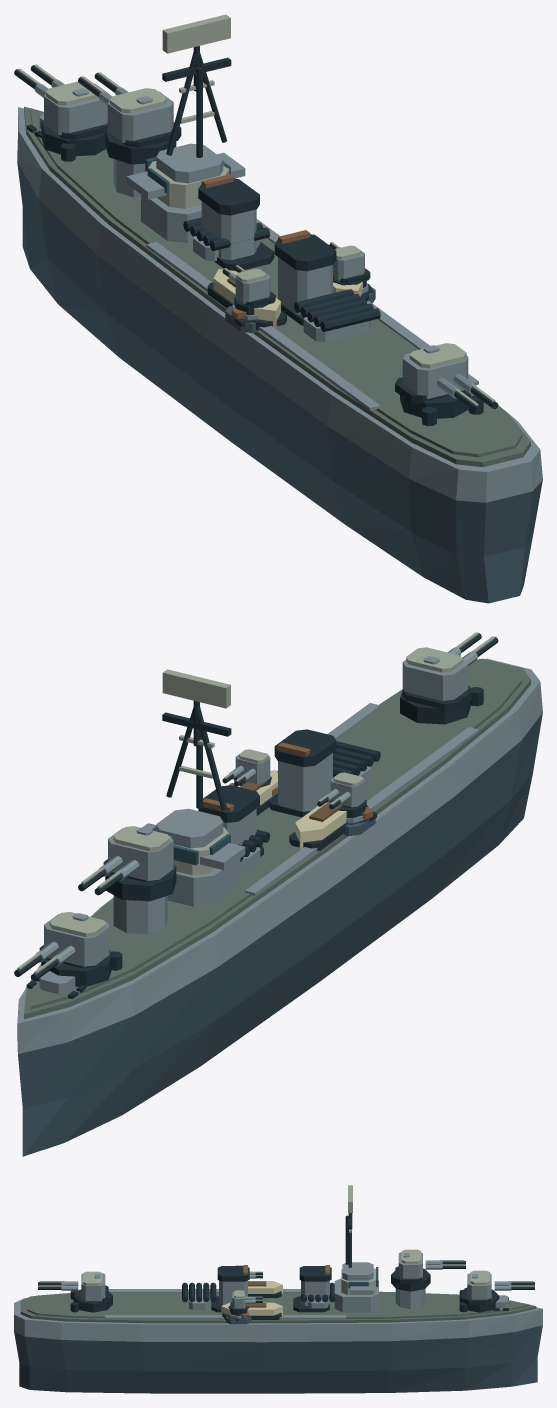
The model's file is historic-allen-sumner.glb.
The picture shows the model from 3 angles, top to bottom: view 1: azimuth 30°, elevation 25°; view 2: azimuth 150°, elevation 25°; view 3: azimuth 270°, elevation 25°; orthographic projection. The views are drawn at different scales.
Parts seen in each view (by area): view 1: historic-allen-sumner-historic-allen-sumner-geometry, historic-allen-sumner-part_bridge.132-geometry, historic-allen-sumner-turret_main_1.094-geometry, historic-allen-sumner-turret_main_2.080-geometry, historic-allen-sumner-turret_main_0.101-geometry, historic-allen-sumner-historic_funnel_0.125-geometry, historic-allen-sumner-historic_funnel_1.070-geometry, historic-allen-sumner-torpedo_bank_0.041-geometry, historic-allen-sumner-turret_aa_aa-port.134-geometry, historic-allen-sumner-torpedo_bank_1.038-geometry, historic-allen-sumner-turret_aa_aa-starboard.130-geometry; view 2: historic-allen-sumner-historic-allen-sumner-geometry, historic-allen-sumner-part_bridge.132-geometry, historic-allen-sumner-turret_main_2.080-geometry, historic-allen-sumner-turret_main_1.094-geometry, historic-allen-sumner-turret_main_0.101-geometry, historic-allen-sumner-historic_funnel_1.070-geometry, historic-allen-sumner-historic_funnel_0.125-geometry, historic-allen-sumner-turret_aa_aa-port.134-geometry, historic-allen-sumner-torpedo_bank_0.041-geometry, historic-allen-sumner-turret_aa_aa-starboard.130-geometry, historic-allen-sumner-torpedo_bank_1.038-geometry; view 3: historic-allen-sumner-historic-allen-sumner-geometry, historic-allen-sumner-part_bridge.132-geometry, historic-allen-sumner-turret_main_1.094-geometry, historic-allen-sumner-turret_main_2.080-geometry, historic-allen-sumner-turret_main_0.101-geometry, historic-allen-sumner-historic_funnel_0.125-geometry, historic-allen-sumner-historic_funnel_1.070-geometry, historic-allen-sumner-torpedo_bank_0.041-geometry, historic-allen-sumner-turret_aa_aa-starboard.130-geometry, historic-allen-sumner-torpedo_bank_1.038-geometry.
Part boxes in pixels (x1=…): historic-allen-sumner-historic-allen-sumner-geometry: x1=17, y1=106, x2=542, y2=603; historic-allen-sumner-part_bridge.132-geometry: x1=126, y1=14, x2=245, y2=242; historic-allen-sumner-turret_main_1.094-geometry: x1=78, y1=72, x2=181, y2=164; historic-allen-sumner-turret_main_2.080-geometry: x1=395, y1=343, x2=498, y2=418; historic-allen-sumner-turret_main_0.101-geometry: x1=14, y1=64, x2=108, y2=156; historic-allen-sumner-historic_funnel_0.125-geometry: x1=198, y1=174, x2=274, y2=270; historic-allen-sumner-historic_funnel_1.070-geometry: x1=274, y1=230, x2=336, y2=325; historic-allen-sumner-torpedo_bank_0.041-geometry: x1=294, y1=289, x2=380, y2=342; historic-allen-sumner-turret_aa_aa-port.134-geometry: x1=222, y1=265, x2=275, y2=315; historic-allen-sumner-torpedo_bank_1.038-geometry: x1=183, y1=217, x2=270, y2=261; historic-allen-sumner-turret_aa_aa-starboard.130-geometry: x1=329, y1=242, x2=370, y2=287; historic-allen-sumner-historic-allen-sumner-geometry: x1=17, y1=658, x2=542, y2=1156; historic-allen-sumner-part_bridge.132-geometry: x1=143, y1=669, x2=245, y2=906; historic-allen-sumner-turret_main_2.080-geometry: x1=400, y1=632, x2=498, y2=724; historic-allen-sumner-turret_main_1.094-geometry: x1=78, y1=826, x2=176, y2=901; historic-allen-sumner-turret_main_0.101-geometry: x1=14, y1=912, x2=112, y2=986; historic-allen-sumner-historic_funnel_1.070-geometry: x1=269, y1=729, x2=336, y2=817; historic-allen-sumner-historic_funnel_0.125-geometry: x1=198, y1=785, x2=263, y2=856; historic-allen-sumner-turret_aa_aa-port.134-geometry: x1=317, y1=772, x2=366, y2=818; historic-allen-sumner-torpedo_bank_0.041-geometry: x1=333, y1=741, x2=380, y2=785; historic-allen-sumner-turret_aa_aa-starboard.130-geometry: x1=222, y1=749, x2=271, y2=787; historic-allen-sumner-torpedo_bank_1.038-geometry: x1=238, y1=830, x2=270, y2=871; historic-allen-sumner-historic-allen-sumner-geometry: x1=14, y1=1281, x2=542, y2=1393; historic-allen-sumner-part_bridge.132-geometry: x1=334, y1=1185, x2=378, y2=1312; historic-allen-sumner-turret_main_1.094-geometry: x1=391, y1=1249, x2=465, y2=1291; historic-allen-sumner-turret_main_2.080-geometry: x1=38, y1=1271, x2=112, y2=1312; historic-allen-sumner-turret_main_0.101-geometry: x1=459, y1=1270, x2=534, y2=1312; historic-allen-sumner-historic_funnel_0.125-geometry: x1=293, y1=1265, x2=331, y2=1312; historic-allen-sumner-historic_funnel_1.070-geometry: x1=211, y1=1265, x2=249, y2=1312; historic-allen-sumner-torpedo_bank_0.041-geometry: x1=182, y1=1282, x2=216, y2=1310; historic-allen-sumner-turret_aa_aa-starboard.130-geometry: x1=228, y1=1290, x2=262, y2=1315; historic-allen-sumner-torpedo_bank_1.038-geometry: x1=301, y1=1282, x2=335, y2=1308.
Size of the model in its own units: 0.6622 by 1.62 by 4.11.
